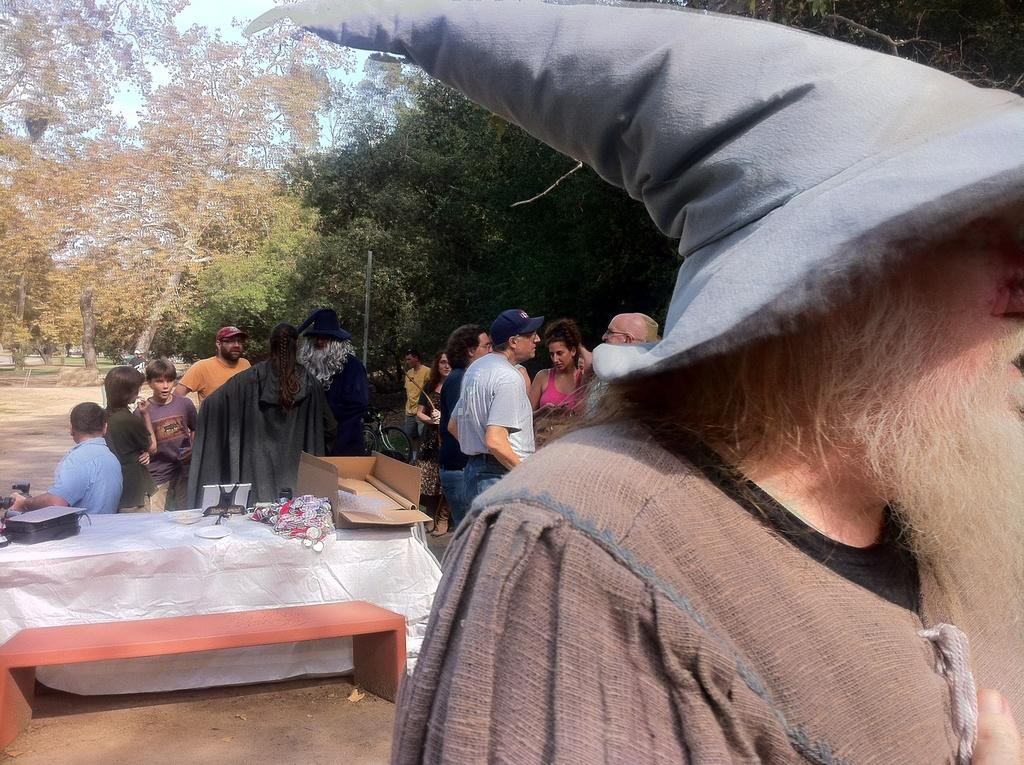Hat: (238, 0, 1022, 382), (489, 308, 545, 346), (300, 305, 348, 340), (216, 322, 238, 335)
